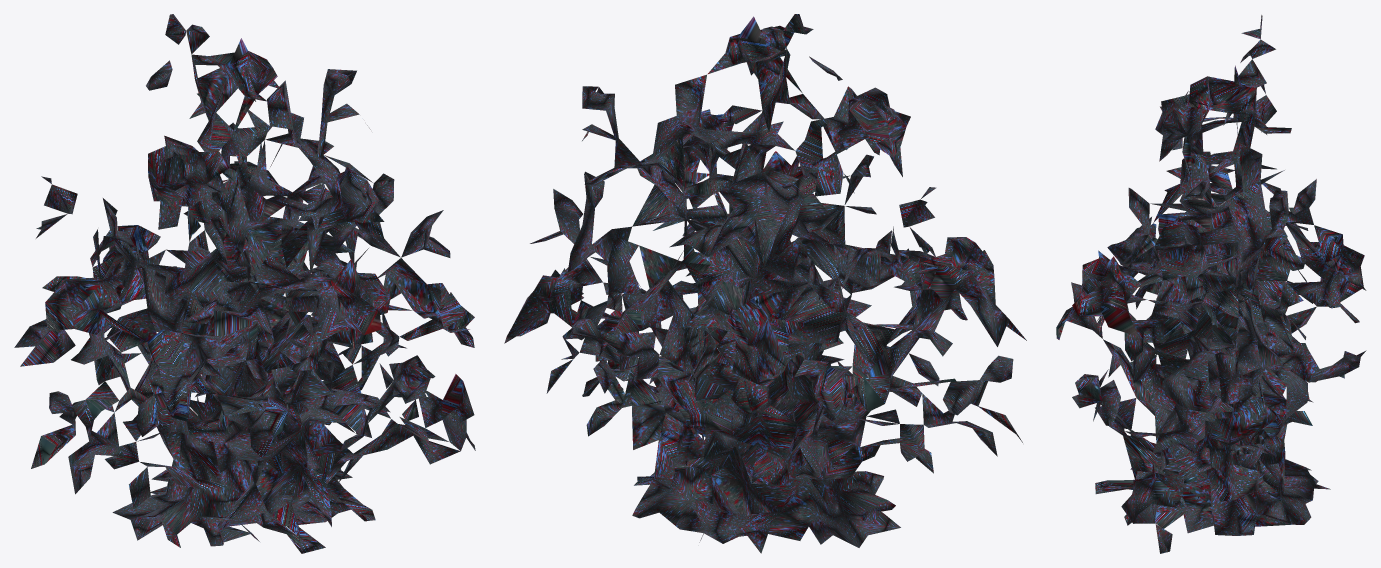
File: rose-bush.glb
3 renders of one model, left to right at view 1: azimuth 30°, elevation 25°; view 2: azimuth 150°, elevation 25°; view 3: azimuth 270°, elevation 25°, orthographic. The views are drawn at different scales.
Size of the model in its own units: 1.87 by 1.86 by 1.15.
Materials: 1 (1 with a texture image).
